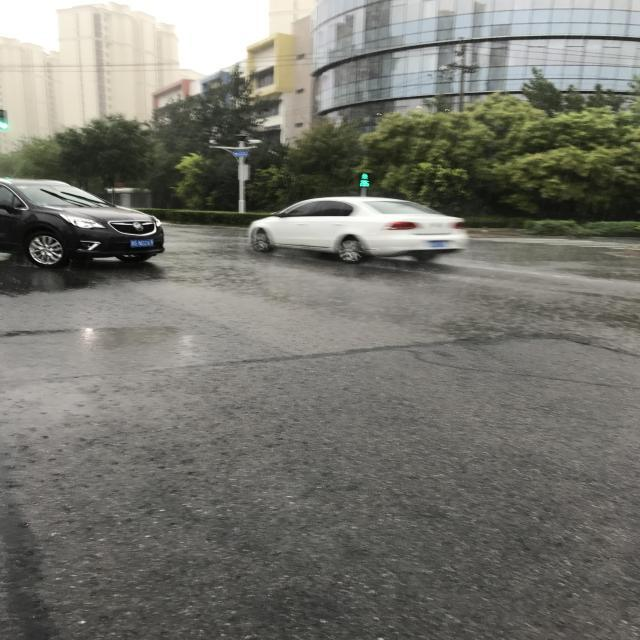car: (193, 162, 264, 392), (177, 473, 266, 640)
